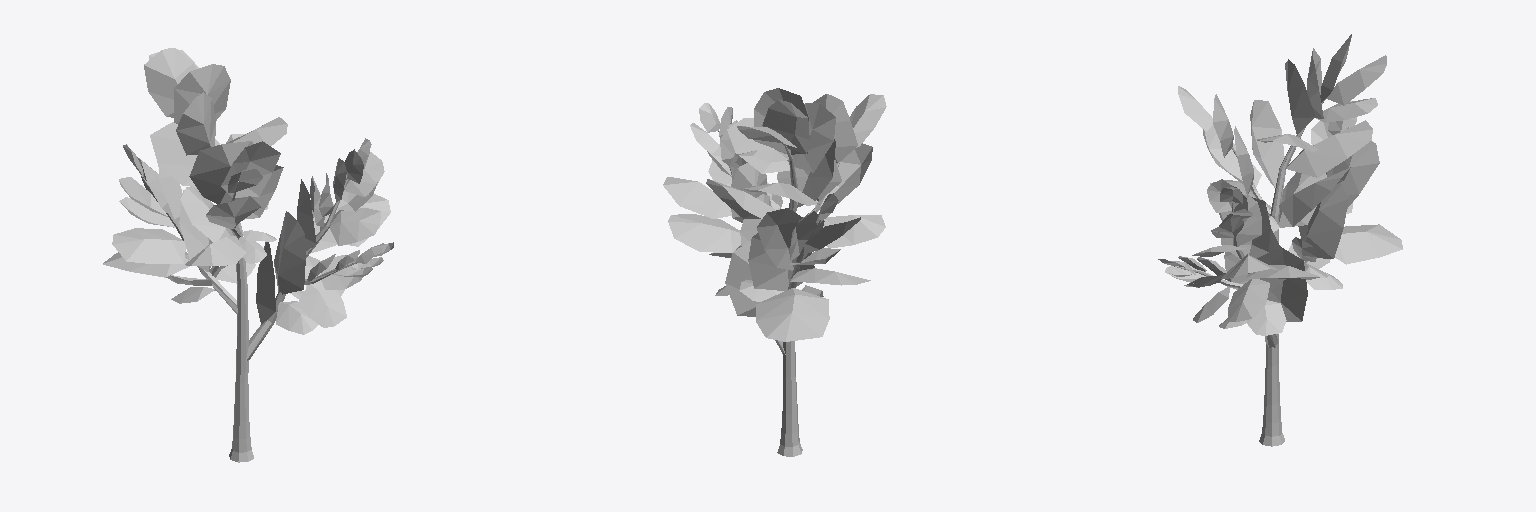
File: tree.obj
3 renders of one model, left to right at view 1: azimuth 30°, elevation 25°; view 2: azimuth 150°, elevation 25°; view 3: azimuth 270°, elevation 25°, orthographic.
Visible parts, largest first — view 1: Circle; view 2: Circle; view 3: Circle.
Boxes of the visible parts, <box> form: Circle: <box>103,48,393,462</box>; Circle: <box>663,88,886,456</box>; Circle: <box>1158,34,1402,446</box>.
Bounding box in the file's own units: 2.5 × 3.98 × 2.29.